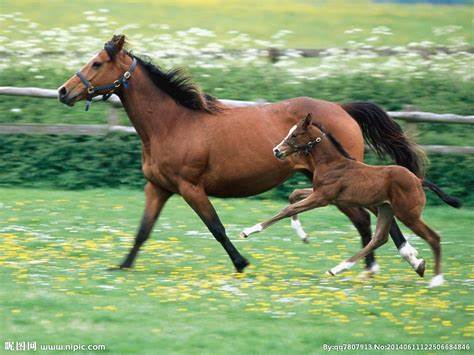horse: (52, 32, 432, 274), (240, 111, 463, 281)
